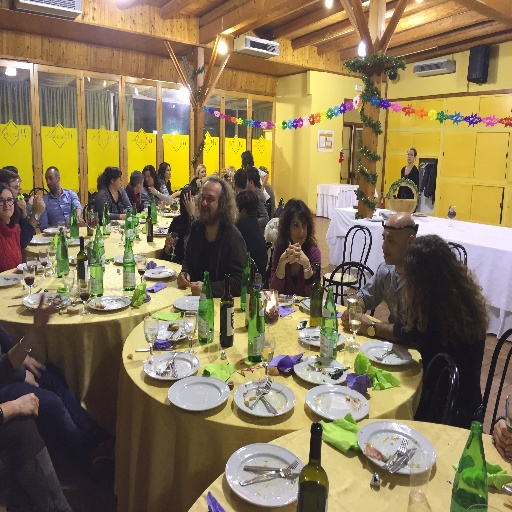hand: (32, 293, 59, 336), (15, 390, 40, 420), (490, 418, 508, 458), (340, 310, 368, 333), (24, 353, 47, 380), (285, 241, 307, 268), (180, 187, 197, 217), (21, 369, 39, 389), (31, 194, 46, 218), (340, 304, 357, 324), (187, 279, 203, 297), (164, 234, 178, 254), (176, 271, 192, 288), (15, 195, 26, 218), (504, 432, 511, 459), (77, 216, 86, 226), (221, 168, 230, 178), (147, 186, 156, 195), (158, 200, 166, 209), (212, 170, 219, 177), (121, 213, 126, 221), (177, 188, 182, 195)
